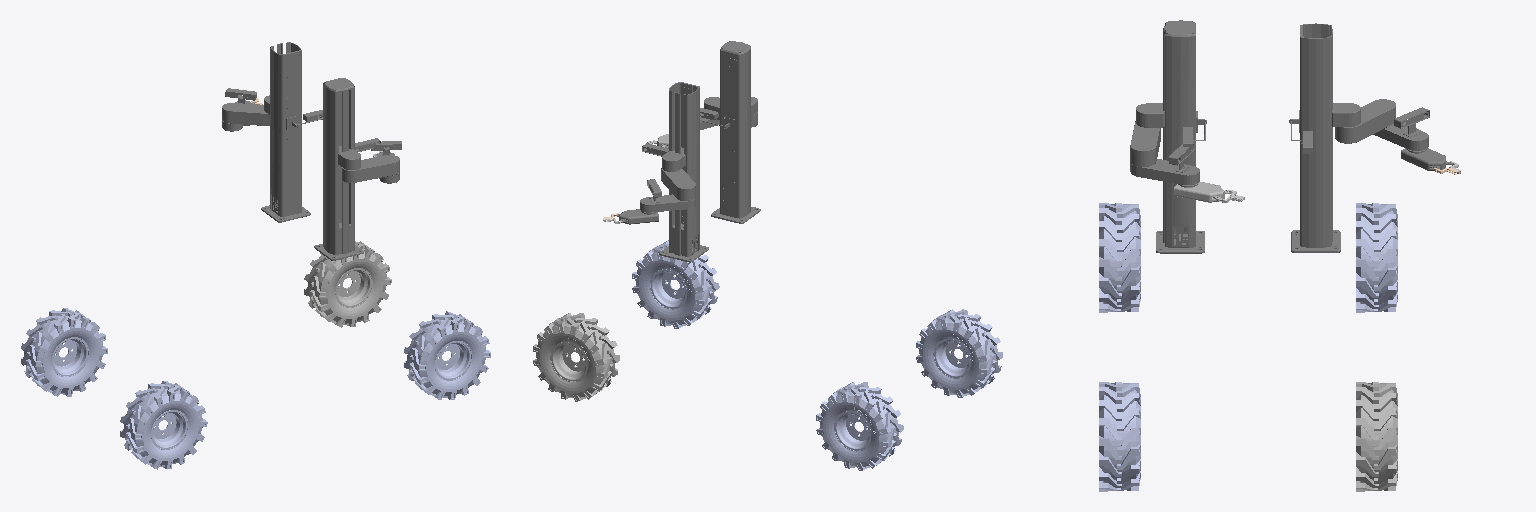
--- What the picture shows (computed from the rendered views, not written in the file) ---
3 views of the same robot in one strip: view 1: azimuth 30°, elevation 25°; view 2: azimuth 150°, elevation 25°; view 3: azimuth 270°, elevation 25° (orthographic).
Robot: grape_harvester — 19 links, 18 joints (9 revolute, 1 continuous, 6 prismatic, 2 fixed); root link base_link; default pose: all joints at 0.
Links seen in each view (by area): view 1: l_arm_base, r_arm_base, l_wheel_back, r_wheel_front, r_wheel_back, l_wheel_front, r_arm_link_2, l_arm_link_2; view 2: r_arm_base, l_wheel_back, r_wheel_back, l_wheel_front, r_wheel_front, l_arm_base, l_arm_link_3, l_arm_link_2; view 3: l_arm_base, r_arm_base, l_wheel_front, l_wheel_back, r_wheel_back, r_wheel_front, r_arm_link_3, l_arm_link_2, l_arm_link_3, r_arm_link_2, r_arm_gripper_base, gripper_base (+2 smaller).
Link boxes in pixels (bbox=[...]): l_arm_base: bbox=[261, 42, 322, 222]; r_arm_base: bbox=[314, 78, 380, 260]; l_wheel_back: bbox=[21, 308, 107, 396]; r_wheel_front: bbox=[404, 311, 490, 399]; r_wheel_back: bbox=[120, 381, 207, 469]; l_wheel_front: bbox=[304, 241, 391, 327]; r_arm_link_2: bbox=[342, 155, 399, 182]; l_arm_link_2: bbox=[222, 103, 269, 125]; r_arm_base: bbox=[700, 41, 760, 223]; l_wheel_back: bbox=[816, 382, 903, 470]; r_wheel_back: bbox=[916, 309, 1002, 397]; l_wheel_front: bbox=[533, 313, 619, 401]; r_wheel_front: bbox=[632, 240, 719, 328]; l_arm_base: bbox=[642, 82, 708, 262]; l_arm_link_3: bbox=[640, 179, 695, 213]; l_arm_link_2: bbox=[661, 168, 695, 200]; l_arm_base: bbox=[1289, 23, 1340, 252]; r_arm_base: bbox=[1156, 20, 1206, 253]; l_wheel_front: bbox=[1356, 382, 1397, 491]; l_wheel_back: bbox=[1356, 203, 1397, 312]; r_wheel_back: bbox=[1099, 203, 1140, 312]; r_wheel_front: bbox=[1099, 382, 1140, 491]; r_arm_link_3: bbox=[1130, 143, 1199, 186]; l_arm_link_2: bbox=[1335, 99, 1395, 143]; l_arm_link_3: bbox=[1373, 107, 1429, 152]; r_arm_link_2: bbox=[1130, 121, 1160, 166]; r_arm_gripper_base: bbox=[1174, 167, 1232, 202]; gripper_base: bbox=[1401, 148, 1454, 171].
Bounding box of the posed robot: 2.16 × 1.47 × 1.82 m (x, y, z).
Meshes: 19 distinct files referenced, 18 mesh visuals loaded (18 binary STL); not drawn: 1 (reference not matched to a file when rendering).

robot.urdf — grape_harvester:
<?xml version="1.0" encoding="utf-8" ?>
<!-- This URDF was automatically created by SolidWorks to URDF Exporter! Originally created by Stephen Brawner ([email redacted]) 
     Commit Version: 1.6.0-1-g15f4949  Build Version: 1.6.7594.29634
     For more information, please see http://wiki.ros.org/sw_urdf_exporter -->
<robot name="grape_harvester">
    <link name="base_link">
        <inertial>
            <origin xyz="0.0967240490462767 -6.50785287935007E-06 0.570595021546874" rpy="0 0 0" />
            <mass value="732.561419245809" />
            <inertia ixx="55.0439847447433" ixy="0.00105467372527832" ixz="-13.2136142377722" iyy="215.138264753584" iyz="0.00166435387234711" izz="233.631575009062" />
        </inertial>
        <visual>
            <origin xyz="0 0 0" rpy="0 0 0" />
            <geometry>
                <mesh filename="package://grape_harvester/meshes/base_link.STL" />
            </geometry>
            <material name="">
                <color rgba="0.847058823529412 0.847058823529412 0.847058823529412 1" />
            </material>
        </visual>
        <collision>
            <origin xyz="0 0 0" rpy="0 0 0" />
            <geometry>
                <mesh filename="package://grape_harvester/meshes/base_link.STL" />
            </geometry>
        </collision>
    </link>
    <link name="l_wheel_front">
        <inertial>
            <origin xyz="-2.55500666828112E-05 -0.00431559968288031 2.73318019216873E-05" rpy="0 0 0" />
            <mass value="15.911327710551" />
            <inertia ixx="0.256653495251073" ixy="3.31407246755762E-05" ixz="3.06050778192681E-05" iyy="0.446525377478014" iyz="-3.54358257007552E-05" izz="0.256649431563068" />
        </inertial>
        <visual>
            <origin xyz="0 0 0" rpy="0 0 0" />
            <geometry>
                <mesh filename="package://grape_harvester/meshes/l_wheel_front.STL" />
            </geometry>
            <material name="">
                <color rgba="0.764705882352941 0.764705882352941 0.764705882352941 1" />
            </material>
        </visual>
        <collision>
            <origin xyz="0 0 0" rpy="0 0 0" />
            <geometry>
                <mesh filename="package://grape_harvester/meshes/l_wheel_front.STL" />
            </geometry>
        </collision>
    </link>
    <joint name="base_l_wheel_front" type="continuous">
        <origin xyz="0.860000000000001 0.52594220962433 0.2225" rpy="0 0 0" />
        <parent link="base_link" />
        <child link="l_wheel_front" />
        <axis xyz="0 -1 0" />
        <limit lower="-1000000" upper="1000000" effort="500000" velocity="1000000" />
    </joint>
    <link name="r_wheel_front">
        <inertial>
            <origin xyz="-2.55500666829223E-05 0.00262660994145059 2.73318019217497E-05" rpy="0 0 0" />
            <mass value="15.9113277105509" />
            <inertia ixx="0.256653495251073" ixy="3.31407246756976E-05" ixz="3.06050778195966E-05" iyy="0.446525377478014" iyz="-3.5435825700834E-05" izz="0.256649431563068" />
        </inertial>
        <visual>
            <origin xyz="0 0 0" rpy="0 0 0" />
            <geometry>
                <mesh filename="package://grape_harvester/meshes/r_wheel_front.STL" />
            </geometry>
            <material name="">
                <color rgba="0.792156862745098 0.819607843137255 0.933333333333333 1" />
            </material>
        </visual>
        <collision>
            <origin xyz="0 0 0" rpy="0 0 0" />
            <geometry>
                <mesh filename="package://grape_harvester/meshes/r_wheel_front.STL" />
            </geometry>
        </collision>
    </link>
    <joint name="base_r_wheel_front" type="revolute">
        <origin xyz="0.860000000000001 -0.524999999999999 0.2225" rpy="0 0 0" />
        <parent link="base_link" />
        <child link="r_wheel_front" />
        <axis xyz="0 1 0" />
        <limit lower="-1000000" upper="1000000" effort="50000" velocity="50000" />
    </joint>
    <link name="l_wheel_back">
        <inertial>
            <origin xyz="-2.55500666831443E-05 -0.00337339005854942 2.73318019219093E-05" rpy="0 0 0" />
            <mass value="15.911327710551" />
            <inertia ixx="0.256653495251073" ixy="3.31407246756729E-05" ixz="3.06050778194416E-05" iyy="0.446525377478015" iyz="-3.54358257008432E-05" izz="0.256649431563068" />
        </inertial>
        <visual>
            <origin xyz="0 0 0" rpy="0 0 0" />
            <geometry>
                <mesh filename="package://grape_harvester/meshes/l_wheel_back.STL" />
            </geometry>
            <material name="">
                <color rgba="0.792156862745098 0.819607843137255 0.933333333333333 1" />
            </material>
        </visual>
        <collision>
            <origin xyz="0 0 0" rpy="0 0 0" />
            <geometry>
                <mesh filename="package://grape_harvester/meshes/l_wheel_back.STL" />
            </geometry>
        </collision>
    </link>
    <joint name="base_l_wheel_back" type="revolute">
        <origin xyz="-0.86 0.525 0.2225" rpy="0 0 0" />
        <parent link="base_link" />
        <child link="l_wheel_back" />
        <axis xyz="0 -1 0" />
        <limit lower="-1000000" upper="1000000" effort="50000" velocity="50000" />
    </joint>
    <link name="r_wheel_back">
        <inertial>
            <origin xyz="-2.55500666828112E-05 0.0026266099414507 2.73318019219232E-05" rpy="0 0 0" />
            <mass value="15.911327710551" />
            <inertia ixx="0.256653495251073" ixy="3.31407246756884E-05" ixz="3.06050778196904E-05" iyy="0.446525377478014" iyz="-3.54358257007756E-05" izz="0.256649431563068" />
        </inertial>
        <visual>
            <origin xyz="0 0 0" rpy="0 0 0" />
            <geometry>
                <mesh filename="package://grape_harvester/meshes/r_wheel_back.STL" />
            </geometry>
            <material name="">
                <color rgba="0.792156862745098 0.819607843137255 0.933333333333333 1" />
            </material>
        </visual>
        <collision>
            <origin xyz="0 0 0" rpy="0 0 0" />
            <geometry>
                <mesh filename="package://grape_harvester/meshes/r_wheel_back.STL" />
            </geometry>
        </collision>
    </link>
    <joint name="base_r_wheel_back" type="revolute">
        <origin xyz="-0.86 -0.524999999999999 0.2225" rpy="0 0 0" />
        <parent link="base_link" />
        <child link="r_wheel_back" />
        <axis xyz="0 1 0" />
        <limit lower="-1000000" upper="1000000" effort="50000" velocity="50000" />
    </joint>
    <link name="l_arm_base">
        <inertial>
            <origin xyz="0.0024968 -0.015377 0.42921" rpy="0 0 0" />
            <mass value="0.01" />
            <inertia ixx="0.20912" ixy="-7.5254E-05" ixz="0.0010211" iyy="0.2113" iyz="-0.00038185" izz="0.015276" />
        </inertial>
        <visual>
            <origin xyz="0 0 0" rpy="0 0 0" />
            <geometry>
                <mesh filename="package://grape_harvester/meshes/l_arm_base.STL" />
            </geometry>
            <material name="">
                <color rgba="0.56471 0.56471 0.56471 1" />
            </material>
        </visual>
        <collision>
            <origin xyz="0 0 0" rpy="0 0 0" />
            <geometry>
                <mesh filename="package://grape_harvester/meshes/l_arm_base.STL" />
            </geometry>
        </collision>
    </link>
    <joint name="base_l_arm_base" type="fixed">
        <origin xyz="0.345503212092889 0.275067184842277 0.8625" rpy="0 0 0" />
        <parent link="base_link" />
        <child link="l_arm_base" />
        <axis xyz="0 0 0" />
    </joint>
    <link name="l_arm_link_1">
        <inertial>
            <origin xyz="0.000125636870732804 0.0804188199429272 -0.0372240719211019" rpy="0 0 0" />
            <mass value="0.01" />
            <inertia ixx="0.0034290734895918" ixy="1.44752336404463E-05" ixz="2.09107970542603E-06" iyy="0.000950241498545379" iyz="7.33029796466367E-05" izz="0.0039252957485201" />
        </inertial>
        <visual>
            <origin xyz="0 0 0" rpy="0 0 0" />
            <geometry>
                <mesh filename="package://grape_harvester/meshes/l_arm_link_1.STL" />
            </geometry>
            <material name="">
                <color rgba="0.564705882352941 0.564705882352941 0.564705882352941 1" />
            </material>
        </visual>
        <collision>
            <origin xyz="0 0 0" rpy="0 0 0" />
            <geometry>
                <mesh filename="package://grape_harvester/meshes/l_arm_link_1.STL" />
            </geometry>
        </collision>
    </link>
    <joint name="l_arm_base_l_arm_link1" type="prismatic">
        <origin xyz="0 0 0.593759108516829" rpy="0 0 0" />
        <parent link="l_arm_base" />
        <child link="l_arm_link_1" />
        <axis xyz="0 0 -1" />
        <limit lower="-0.2" upper="0.2" effort="300" velocity="3" />
    </joint>
    <link name="l_arm_link_2">
        <inertial>
            <origin xyz="-0.0854570113219302 0.0709105321317886 -0.0984483167347361" rpy="0 0 0" />
            <mass value="0.01" />
            <inertia ixx="0.00866799275524474" ixy="0.00727661797303508" ixz="-7.28447678409945E-05" iyy="0.0113873692649047" iyz="6.03025196983541E-05" izz="0.0186444325786857" />
        </inertial>
        <visual>
            <origin xyz="0 0 0" rpy="0 0 0" />
            <geometry>
                <mesh filename="package://grape_harvester/meshes/l_arm_link_2.STL" />
            </geometry>
            <material name="">
                <color rgba="0.564705882352941 0.564705882352941 0.564705882352941 1" />
            </material>
        </visual>
        <collision>
            <origin xyz="0 0 0" rpy="0 0 0" />
            <geometry>
                <mesh filename="package://grape_harvester/meshes/l_arm_link_2.STL" />
            </geometry>
        </collision>
    </link>
    <joint name="l_arm_link_1_l_arm_link_2" type="revolute">
        <origin xyz="-2.38538024483481E-05 0.131932815157645 -0.00200000000005285" rpy="0 0 0" />
        <parent link="l_arm_link_1" />
        <child link="l_arm_link_2" />
        <axis xyz="0 0 1" />
        <limit lower="-2.6" upper="0.82" effort="300" velocity="3" />
    </joint>
    <link name="l_arm_link_3">
        <inertial>
            <origin xyz="0.0699396065905296 -0.0737302141498409 -0.0926276756075906" rpy="0 0 0" />
            <mass value="0.01" />
            <inertia ixx="0.00546308340369262" ixy="0.00380182327080884" ixz="1.85741775412588E-05" iyy="0.00506145717588313" iyz="-1.95812221911357E-05" izz="0.0100016298513614" />
        </inertial>
        <visual>
            <origin xyz="0 0 0" rpy="0 0 0" />
            <geometry>
                <mesh filename="package://grape_harvester/meshes/l_arm_link_3.STL" />
            </geometry>
            <material name="">
                <color rgba="0.564705882352941 0.564705882352941 0.564705882352941 1" />
            </material>
        </visual>
        <collision>
            <origin xyz="0 0 0" rpy="0 0 0" />
            <geometry>
                <mesh filename="package://grape_harvester/meshes/l_arm_link_3.STL" />
            </geometry>
        </collision>
    </link>
    <joint name="l_arm_link_2_l_arm_link_3" type="revolute">
        <origin xyz="-0.16927333898573 0.140522370848582 -0.0629999999999309" rpy="0 0 1.5707963267949" />
        <parent link="l_arm_link_2" />
        <child link="l_arm_link_3" />
        <axis xyz="0 0 1" />
        <limit lower="-3.14" upper="3.14" effort="300" velocity="3" />
    </joint>
    <link name="gripper_base">
        <inertial>
            <origin xyz="0.0417656890379304 -0.0440296352379506 -0.0818516657835077" rpy="0 0 0" />
            <mass value="0.01" />
            <inertia ixx="0.000158320167909366" ixy="4.98951547405743E-05" ixz="4.08521109394338E-06" iyy="0.0001530507624686" iyz="-4.3048628224785E-06" izz="0.000264761402018064" />
        </inertial>
        <visual>
            <origin xyz="0 0 0" rpy="0 0 0" />
            <geometry>
                <mesh filename="package://grape_harvester/meshes/gripper_base.STL" />
            </geometry>
            <material name="">
                <color rgba="0.564705882352941 0.564705882352941 0.564705882352941 1" />
            </material>
        </visual>
        <collision>
            <origin xyz="0 0 0" rpy="0 0 0" />
            <geometry>
                <mesh filename="package://grape_harvester/meshes/gripper_base.STL" />
            </geometry>
        </collision>
    </link>
    <joint name="l_arm_link3_gripper_base" type="revolute">
        <origin xyz="0.137641878611459 -0.145102423315937 -0.0720000000000072" rpy="0 0 0" />
        <parent link="l_arm_link_3" />
        <child link="gripper_base" />
        <axis xyz="0 0 1" />
        <limit lower="-3.14" upper="3.14" effort="300" velocity="3" />
    </joint>
    <link name="r_finger_l_gripper">
        <inertial>
            <origin xyz="-0.0253969129652248 0.0241461215019181 0.000850862451540646" rpy="0 0 0" />
            <mass value="0.01" />
            <inertia ixx="4.37396734706745E-06" ixy="2.16963471246923E-06" ixz="4.42617514527407E-10" iyy="2.62421421445249E-06" iyz="9.63789542828289E-15" izz="6.67238241923964E-06" />
        </inertial>
        <visual>
            <origin xyz="0 0 0" rpy="0 0 0" />
            <geometry>
                <mesh filename="package://grape_harvester/meshes/r_finger_l_gripper.STL" />
            </geometry>
            <material name="">
                <color rgba="1 0.898039215686275 0.8 1" />
            </material>
        </visual>
        <collision>
            <origin xyz="0 0 0" rpy="0 0 0" />
            <geometry>
                <mesh filename="package://grape_harvester/meshes/r_finger_l_gripper.STL" />
            </geometry>
        </collision>
    </link>
    <joint name="l_gripper_base_r_finger" type="prismatic">
        <origin xyz="0.151543661927759 -0.159757719126552 -0.0833093207226201" rpy="0 0 0.759018095073969" />
        <parent link="gripper_base" />
        <child link="r_finger_l_gripper" />
        <axis xyz="-1 0 0" />
        <limit lower="0" upper="0.02" effort="300" velocity="3" />
    </joint>
    <link name="l_finger_l_gripper">
        <inertial>
            <origin xyz="0.0201917326469194 0.0171855945703733 0.000409320456968953" rpy="0 0 0" />
            <mass value="0.01" />
            <inertia ixx="5.33107508010463E-06" ixy="-2.1696347035305E-06" ixz="-5.28113216851625E-14" iyy="2.72756181550335E-06" iyz="1.13840520310012E-12" izz="7.66157734339293E-06" />
        </inertial>
        <visual>
            <origin xyz="0 0 0" rpy="0 0 0" />
            <geometry>
                <mesh filename="package://grape_harvester/meshes/l_finger_l_gripper.STL" />
            </geometry>
            <material name="">
                <color rgba="0.847058823529412 0.847058823529412 0.847058823529412 1" />
            </material>
        </visual>
        <collision>
            <origin xyz="0 0 0" rpy="0 0 0" />
            <geometry>
                <mesh filename="package://grape_harvester/meshes/l_finger_l_gripper.STL" />
            </geometry>
        </collision>
    </link>
    <joint name="l_gripper_base_l_finger" type="prismatic">
        <origin xyz="0.151543661927759 -0.159757719126552 -0.0833093207226201" rpy="0 0 0.759018095073969" />
        <parent link="gripper_base" />
        <child link="l_finger_l_gripper" />
        <axis xyz="-1 0 0" />
        <limit lower="-0.02" upper="0" effort="300" velocity="3" />
    </joint>
    <link name="r_arm_base">
        <inertial>
            <origin xyz="0.0016045 0.015369 0.42939" rpy="0 0 0" />
            <mass value="0.01" />
            <inertia ixx="0.20912" ixy="-2.7958E-05" ixz="-0.0010211" iyy="0.2113" iyz="0.00038776" izz="0.015276" />
        </inertial>
        <visual>
            <origin xyz="0 0 0" rpy="0 0 0" />
            <geometry>
                <mesh filename="package://grape_harvester/meshes/r_arm_base.STL" />
            </geometry>
            <material name="">
                <color rgba="0.56471 0.56471 0.56471 1" />
            </material>
        </visual>
        <collision>
            <origin xyz="0 0 0" rpy="0 0 0" />
            <geometry>
                <mesh filename="package://grape_harvester/meshes/r_arm_base.STL" />
            </geometry>
        </collision>
    </link>
    <joint name="base_r_arm_base" type="fixed">
        <origin xyz="0.349976146197634 -0.275067184842277 0.8625" rpy="0 0 0" />
        <parent link="base_link" />
        <child link="r_arm_base" />
        <axis xyz="0 0 0" />
    </joint>
    <link name="r_arm_link_1">
        <inertial>
            <origin xyz="-0.000125636870781154 -0.0804188199429695 -0.0372240719211019" rpy="0 0 0" />
            <mass value="0.01" />
            <inertia ixx="0.00342907348959179" ixy="1.44752336404472E-05" ixz="-2.09107970542582E-06" iyy="0.000950241498545383" iyz="-7.33029796466401E-05" izz="0.00392529574852009" />
        </inertial>
        <visual>
            <origin xyz="0 0 0" rpy="0 0 0" />
            <geometry>
                <mesh filename="package://grape_harvester/meshes/r_arm_link_1.STL" />
            </geometry>
            <material name="">
                <color rgba="0.564705882352941 0.564705882352941 0.564705882352941 1" />
            </material>
        </visual>
        <collision>
            <origin xyz="0 0 0" rpy="0 0 0" />
            <geometry>
                <mesh filename="package://grape_harvester/meshes/r_arm_link_1.STL" />
            </geometry>
        </collision>
    </link>
    <joint name="r_arm_base_r_arm_link_1" type="prismatic">
        <origin xyz="0 0 0.593759108516829" rpy="0 0 0" />
        <parent link="r_arm_base" />
        <child link="r_arm_link_1" />
        <axis xyz="0 0 -1" />
        <limit lower="-0.2" upper="0.2" effort="300" velocity="3" />
    </joint>
    <link name="r_arm_link_2">
        <inertial>
            <origin xyz="0.110638958296988 -0.00949870182453177 -0.0984483168531514" rpy="0 0 0" />
            <mass value="0.01" />
            <inertia ixx="0.00273445011587975" ixy="0.00126755844621284" ixz="9.42288684763653E-05" iyy="0.0173209120460984" iyz="-7.97968333694519E-06" izz="0.0186444327205125" />
        </inertial>
        <visual>
            <origin xyz="0 0 0" rpy="0 0 0" />
            <geometry>
                <mesh filename="package://grape_harvester/meshes/r_arm_link_2.STL" />
            </geometry>
            <material name="">
                <color rgba="0.564705882352941 0.564705882352941 0.564705882352941 1" />
            </material>
        </visual>
        <collision>
            <origin xyz="0 0 0" rpy="0 0 0" />
            <geometry>
                <mesh filename="package://grape_harvester/meshes/r_arm_link_2.STL" />
            </geometry>
        </collision>
    </link>
    <joint name="r_arm_link_1_r_arm_link_2" type="revolute">
        <origin xyz="2.38538023998869E-05 -0.131932815157687 -0.00200000000005285" rpy="0 0 0" />
        <parent link="r_arm_link_1" />
        <child link="r_arm_link_2" />
        <axis xyz="0 0 1" />
        <limit lower="-3.14" upper="0" effort="300" velocity="3" />
    </joint>
    <link name="r_arm_link_3">
        <inertial>
            <origin xyz="0.0431771728754073 0.0947109741374368 -0.0895746798248389" rpy="0 0 0" />
            <mass value="0.01" />
            <inertia ixx="0.00779168094949869" ixy="-0.00282823353959421" ixz="1.04013867884703E-05" iyy="0.00287734902626481" iyz="2.5071131850438E-05" izz="0.0101312773842739" />
        </inertial>
        <visual>
            <origin xyz="0 0 0" rpy="0 0 0" />
            <geometry>
                <mesh filename="package://grape_harvester/meshes/r_arm_link_3.STL" />
            </geometry>
            <material name="">
                <color rgba="0.564705882352941 0.564705882352941 0.564705882352941 1" />
            </material>
        </visual>
        <collision>
            <origin xyz="0 0 0" rpy="0 0 0" />
            <geometry>
                <mesh filename="package://grape_harvester/meshes/r_arm_link_3.STL" />
            </geometry>
        </collision>
    </link>
    <joint name="r_arm_link_2_r_arm_link_3" type="revolute">
        <origin xyz="0.219189537435978 -0.0188665492047488 -0.0629999999999324" rpy="0 0 0" />
        <parent link="r_arm_link_2" />
        <child link="r_arm_link_3" />
        <axis xyz="0 0 1" />
        <limit lower="-3.14" upper="3.14" effort="300" velocity="3" />
    </joint>
    <link name="r_arm_gripper_base">
        <inertial>
            <origin xyz="0.0521148210779367 -0.0240205898391851 -0.0822842118271686" rpy="0 0 0" />
            <mass value="0.01" />
            <inertia ixx="0.000127476928748419" ixy="3.79028930298665E-05" ixz="5.40933294687369E-06" iyy="0.000193341890041489" iyz="-2.46472178566827E-06" izz="0.000269777657282667" />
        </inertial>
        <visual>
            <origin xyz="0 0 0" rpy="0 0 0" />
            <geometry>
                <mesh filename="package://grape_harvester/meshes/r_arm_gripper_base.STL" />
            </geometry>
            <material name="">
                <color rgba="0.752941176470588 0.752941176470588 0.752941176470588 1" />
            </material>
        </visual>
        <collision>
            <origin xyz="0 0 0" rpy="0 0 0" />
            <geometry>
                <mesh filename="package://grape_harvester/meshes/r_arm_gripper_base.STL" />
            </geometry>
        </collision>
    </link>
    <joint name="r_arm_link_3_r_arm_gripper_base" type="revolute">
        <origin xyz="0.0829629163109964 0.181981192756639 -0.0719999999999965" rpy="0 0 1.5707963267949" />
        <parent link="r_arm_link_3" />
        <child link="r_arm_gripper_base" />
        <axis xyz="0 0 1" />
        <limit lower="-3.14" upper="3.14" effort="300" velocity="3" />
    </joint>
    <link name="r_gripper_l_finger">
        <inertial>
            <origin xyz="0.0201917327019903 0.0173408266589892 0.000100073144415291" rpy="0 0 0" />
            <mass value="0.01" />
            <inertia ixx="5.33107508612748E-06" ixy="-2.16963471071172E-06" ixz="-5.78919974091421E-14" iyy="2.72756180168153E-06" iyz="1.13591600331937E-12" izz="7.66157733174381E-06" />
        </inertial>
        <visual>
            <origin xyz="0 0 0" rpy="0 0 0" />
            <geometry>
                <mesh filename="package://grape_harvester/meshes/r_gripper_l_finger.STL" />
            </geometry>
            <material name="">
                <color rgba="0.847058823529412 0.847058823529412 0.847058823529412 1" />
            </material>
        </visual>
        <collision>
            <origin xyz="0 0 0" rpy="0 0 0" />
            <geometry>
                <mesh filename="package://grape_harvester/meshes/r_gripper_l_finger.STL" />
            </geometry>
        </collision>
    </link>
    <joint name="r_gripper_base_l_finger" type="prismatic">
        <origin xyz="0.200502478521291 -0.0914065354437857 -0.0830000734394419" rpy="0 0 1.14305731087788" />
        <parent link="r_arm_gripper_base" />
        <child link="r_gripper_l_finger" />
        <axis xyz="-1 0 0" />
        <limit lower="0" upper="0.1" effort="300" velocity="3" />
    </joint>
    <link name="r_gripper_r_finger">
        <inertial>
            <origin xyz="-0.0195761331228345 0.0165363041413611 0.000399847238456763" rpy="0 0 0" />
            <mass value="0.01" />
            <inertia ixx="5.48940286216819E-06" ixy="2.16963469343169E-06" ixz="4.42630322994913E-10" iyy="2.7499483324012E-06" iyz="-1.14140073653415E-12" izz="7.84217510614175E-06" />
        </inertial>
        <visual>
            <origin xyz="0 0 0" rpy="0 0 0" />
            <geometry>
                <mesh filename="package://grape_harvester/meshes/r_gripper_r_finger.STL" />
            </geometry>
            <material name="">
                <color rgba="0.847058823529412 0.847058823529412 0.847058823529412 1" />
            </material>
        </visual>
        <collision>
            <origin xyz="0 0 0" rpy="0 0 0" />
            <geometry>
                <mesh filename="package://grape_harvester/meshes/r_gripper_r_finger.STL" />
            </geometry>
        </collision>
    </link>
    <joint name="r_gripper_base_r_finger" type="prismatic">
        <origin xyz="0.200502478521291 -0.0914065354437857 -0.0830000734394419" rpy="0 0 1.14305731087788" />
        <parent link="r_arm_gripper_base" />
        <child link="r_gripper_r_finger" />
        <axis xyz="-1 0 0" />
        <limit lower="0" upper="0.1" effort="300" velocity="3" />
    </joint>
    <transmission name="l_arm_link_1_trans">
        <type>transmission_interface/SimpleTransmission</type>
        <joint name="l_arm_base_l_arm_link1">
            <hardwareInterface>hardware_interface/PositionJointInterface</hardwareInterface>
        </joint>
        <actuator name="l_arm_link_1_motor">
            <hardwareInterface>hardware_interface/PositionJointInterface</hardwareInterface>
            <mechanicalReduction>1</mechanicalReduction>
        </actuator>
    </transmission>
    <transmission name="l_arm_link_2_trans">
        <type>transmission_interface/SimpleTransmission</type>
        <joint name="l_arm_link_1_l_arm_link_2">
            <hardwareInterface>hardware_interface/PositionJointInterface</hardwareInterface>
        </joint>
        <actuator name="l_arm_link_2_motor">
            <hardwareInterface>hardware_interface/PositionJointInterface</hardwareInterface>
            <mechanicalReduction>1</mechanicalReduction>
        </actuator>
    </transmission>
    <transmission name="l_arm_link_3_trans">
        <type>transmission_interface/SimpleTransmission</type>
        <joint name="l_arm_link_2_l_arm_link_3">
            <hardwareInterface>hardware_interface/PositionJointInterface</hardwareInterface>
        </joint>
        <actuator name="l_arm_link_3_motor">
            <hardwareInterface>hardware_interface/PositionJointInterface</hardwareInterface>
            <mechanicalReduction>1</mechanicalReduction>
        </actuator>
    </transmission>
    <transmission name="gripper_base_trans">
        <type>transmission_interface/SimpleTransmission</type>
        <joint name="l_arm_link3_gripper_base">
            <hardwareInterface>hardware_interface/PositionJointInterface</hardwareInterface>
        </joint>
        <actuator name="gripper_base_motor">
            <hardwareInterface>hardware_interface/PositionJointInterface</hardwareInterface>
            <mechanicalReduction>1</mechanicalReduction>
        </actuator>
    </transmission>
    <transmission name="l_finger_l_gripper_trans">
        <type>transmission_interface/SimpleTransmission</type>
        <joint name="l_gripper_base_l_finger">
            <hardwareInterface>hardware_interface/PositionJointInterface</hardwareInterface>
        </joint>
        <actuator name="l_finger_l_gripper_motor">
            <hardwareInterface>hardware_interface/PositionJointInterface</hardwareInterface>
            <mechanicalReduction>1</mechanicalReduction>
        </actuator>
    </transmission>
    <transmission name="r_finger_l_gripper_trans">
        <type>transmission_interface/SimpleTransmission</type>
        <joint name="l_gripper_base_r_finger">
            <hardwareInterface>hardware_interface/PositionJointInterface</hardwareInterface>
        </joint>
        <actuator name="r_finger_l_gripper_motor">
            <hardwareInterface>hardware_interface/PositionJointInterface</hardwareInterface>
            <mechanicalReduction>1</mechanicalReduction>
        </actuator>
    </transmission>
    <transmission name="r_arm_link_1_trans">
        <type>transmission_interface/SimpleTransmission</type>
        <joint name="r_arm_base_r_arm_link_1">
            <hardwareInterface>hardware_interface/PositionJointInterface</hardwareInterface>
        </joint>
        <actuator name="r_arm_link_1_motor">
            <hardwareInterface>hardware_interface/PositionJointInterface</hardwareInterface>
            <mechanicalReduction>1</mechanicalReduction>
        </actuator>
    </transmission>
    <transmission name="r_arm_link_2_trans">
        <type>transmission_interface/SimpleTransmission</type>
        <joint name="r_arm_link_1_r_arm_link_2">
            <hardwareInterface>hardware_interface/PositionJointInterface</hardwareInterface>
        </joint>
        <actuator name="r_arm_link_2_motor">
            <hardwareInterface>hardware_interface/PositionJointInterface</hardwareInterface>
            <mechanicalReduction>1</mechanicalReduction>
        </actuator>
    </transmission>
    <transmission name="r_arm_link_3_trans">
        <type>transmission_interface/SimpleTransmission</type>
        <joint name="r_arm_link_2_r_arm_link_3">
            <hardwareInterface>hardware_interface/PositionJointInterface</hardwareInterface>
        </joint>
        <actuator name="r_arm_link_3_motor">
            <hardwareInterface>hardware_interface/PositionJointInterface</hardwareInterface>
            <mechanicalReduction>1</mechanicalReduction>
        </actuator>
    </transmission>
    <transmission name="r_arm_gripper_base_trans">
        <type>transmission_interface/SimpleTransmission</type>
        <joint name="r_arm_link_3_r_arm_gripper_base">
            <hardwareInterface>hardware_interface/PositionJointInterface</hardwareInterface>
        </joint>
        <actuator name="r_arm_gripper_base_motor">
            <hardwareInterface>hardware_interface/PositionJointInterface</hardwareInterface>
            <mechanicalReduction>1</mechanicalReduction>
        </actuator>
    </transmission>
    <transmission name="r_gripper_l_finger_trans">
        <type>transmission_interface/SimpleTransmission</type>
        <joint name="r_gripper_base_l_finger">
            <hardwareInterface>hardware_interface/PositionJointInterface</hardwareInterface>
        </joint>
        <actuator name="r_gripper_l_finger_motor">
            <hardwareInterface>hardware_interface/PositionJointInterface</hardwareInterface>
            <mechanicalReduction>1</mechanicalReduction>
        </actuator>
    </transmission>
    <transmission name="r_gripper_r_finger_trans">
        <type>transmission_interface/SimpleTransmission</type>
        <joint name="r_gripper_base_r_finger">
            <hardwareInterface>hardware_interface/PositionJointInterface</hardwareInterface>
        </joint>
        <actuator name="r_gripper_r_finger_motor">
            <hardwareInterface>hardware_interface/PositionJointInterface</hardwareInterface>
            <mechanicalReduction>1</mechanicalReduction>
        </actuator>
    </transmission>
    <gazebo>
        <plugin name="control" filename="libgazebo_ros_control.so">
            <robotNamespace>/</robotNamespace>
        </plugin>
        <plugin name="gazebo_ros_control">
            <robotNamespace>/</robotNamespace>
        </plugin>
    </gazebo>
    <gazebo>
        <plugin name="skid_steer_drive_controller" filename="libgazebo_ros_skid_steer_drive.so">
            <updateRate>100.0</updateRate>
            <robotNamespace>/</robotNamespace>
            <leftFrontJoint>base_l_wheel_front</leftFrontJoint>
            <rightFrontJoint>base_r_wheel_front</rightFrontJoint>
            <leftRearJoint>base_l_wheel_back</leftRearJoint>
            <rightRearJoint>base_r_wheel_back</rightRearJoint>
            <wheelSeparation>0.4</wheelSeparation>
            <wheelDiameter>0.215</wheelDiameter>
            <robotBaseFrame>base_link</robotBaseFrame>
            <torque>5000</torque>
            <commandTopic>cmd_vel</commandTopic>
            <odometryTopic>odom</odometryTopic>
            <odometryFrame>odom</odometryFrame>
            <topicName>cmd_vel</topicName>
            <broadcastTF>false</broadcastTF>
            <covariance_x>0.0001</covariance_x>
            <covariance_y>0.0001</covariance_y>
            <covariance_yaw>0.01</covariance_yaw>
        </plugin>
        <!-- <plugin name="object_controller" filename="libgazebo_ros_planar_move.so">
      <commandTopic>cmd_vel</commandTopic>
      <odometryTopic>odom</odometryTopic>
      <odometryFrame>odom</odometryFrame>
      <odometryRate>20.0</odometryRate>
      <robotBaseFrame>base_link</robotBaseFrame>
    </plugin> -->
        <!-- rosrun teleop_twist_keyboard teleop_twist_keyboard.py -->
    </gazebo>
    <transmission name="trans_base_l_wheel_front">
        <type>transmission_interface/SimpleTransmission</type>
        <joint name="base_l_wheel_front">
            <hardwareInterface>hardware_interface/EffortJointInterface</hardwareInterface>
        </joint>
        <actuator name="base_l_wheel_front_motor">
            <hardwareInterface>hardware_interface/EffortJointInterface</hardwareInterface>
            <mechanicalReduction>1</mechanicalReduction>
        </actuator>
    </transmission>
    <transmission name="trans_base_r_wheel_front">
        <type>transmission_interface/SimpleTransmission</type>
        <joint name="base_r_wheel_front">
            <hardwareInterface>hardware_interface/EffortJointInterface</hardwareInterface>
        </joint>
        <actuator name="base_r_wheel_front_motor">
            <hardwareInterface>hardware_interface/EffortJointInterface</hardwareInterface>
            <mechanicalReduction>1</mechanicalReduction>
        </actuator>
    </transmission>
    <transmission name="trans_base_l_wheel_back">
        <type>transmission_interface/SimpleTransmission</type>
        <joint name="base_l_wheel_back">
            <hardwareInterface>hardware_interface/EffortJointInterface</hardwareInterface>
        </joint>
        <actuator name="base_l_wheel_back_motor">
            <hardwareInterface>hardware_interface/EffortJointInterface</hardwareInterface>
            <mechanicalReduction>1</mechanicalReduction>
        </actuator>
    </transmission>
    <transmission name="trans_base_r_wheel_back">
        <type>transmission_interface/SimpleTransmission</type>
        <joint name="base_r_wheel_back">
            <hardwareInterface>hardware_interface/EffortJointInterface</hardwareInterface>
        </joint>
        <actuator name="base_r_wheel_back_motor">
            <hardwareInterface>hardware_interface/EffortJointInterface</hardwareInterface>
            <mechanicalReduction>1</mechanicalReduction>
        </actuator>
    </transmission>
</robot>
